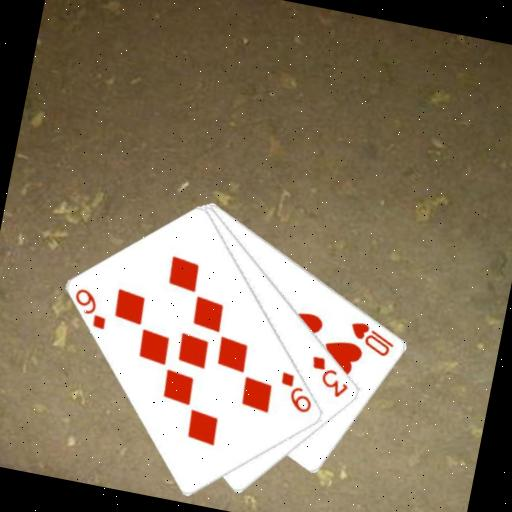10H: (344, 317, 400, 360)
3D: (303, 351, 356, 401)
9D: (273, 368, 320, 416), (67, 284, 114, 332)
